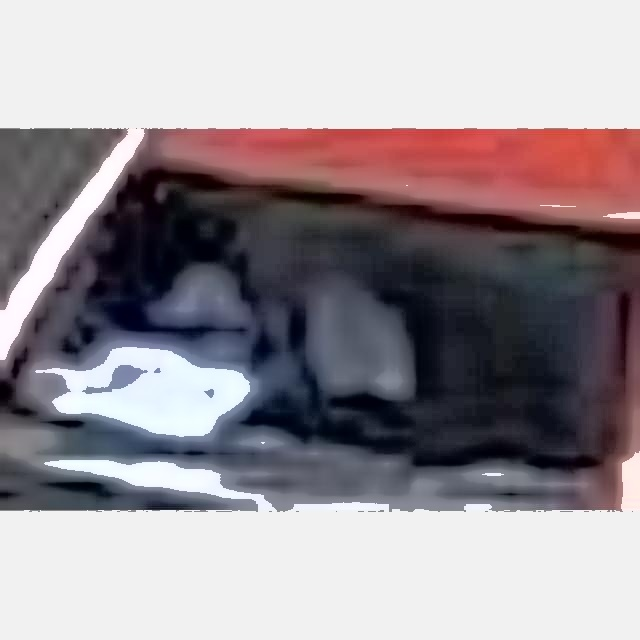tidak-pakai: (155, 243, 423, 408)
